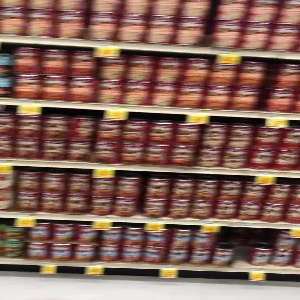void: (233, 224, 255, 270)
